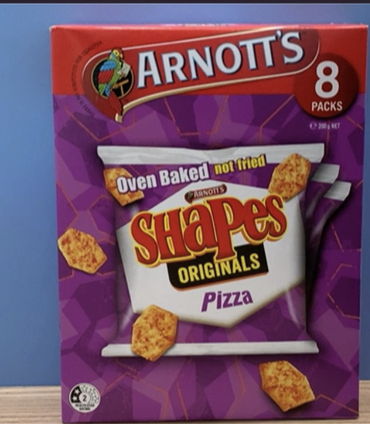crackers_150g: (67, 38, 347, 414)
